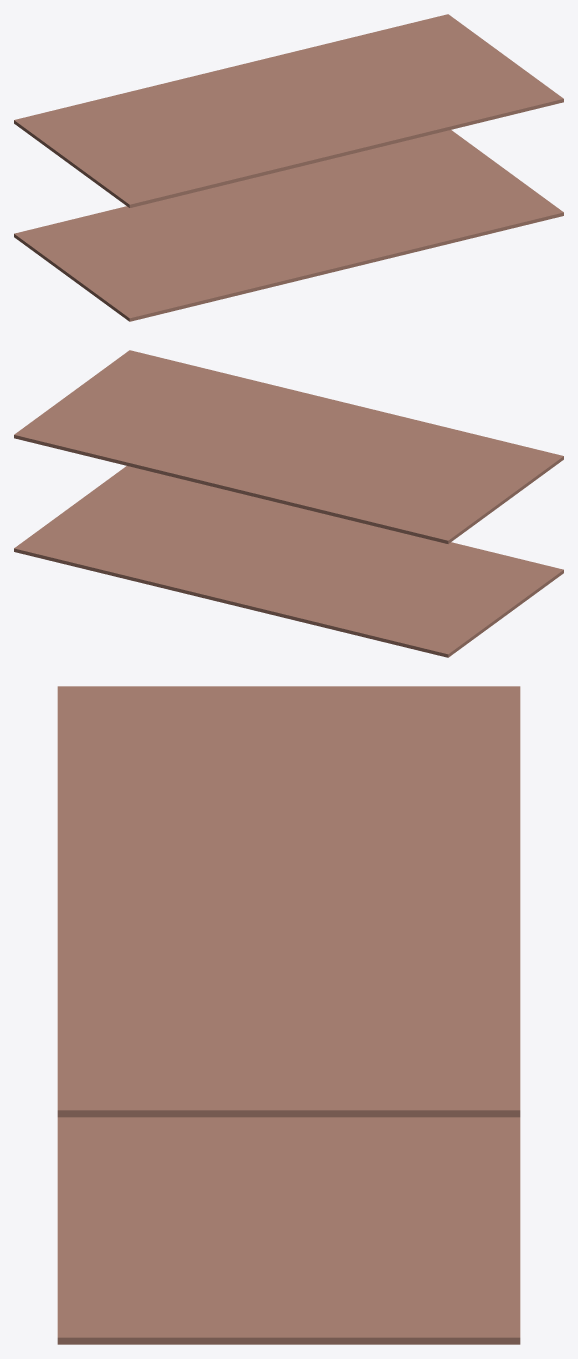
File: hall.fbx_Collection.fbx
The picture shows the model from 3 angles, top to bottom: view 1: azimuth 30°, elevation 25°; view 2: azimuth 150°, elevation 25°; view 3: azimuth 270°, elevation 25°; orthographic projection. The views are drawn at different scales.
Parts seen in each view (by area): view 1: Cube.001, Cube; view 2: Cube.001, Cube; view 3: Cube.001, Cube.
Boxes of the visible parts, x1,y1,x2,y2 form: Cube.001: (14, 14, 563, 207); Cube: (14, 130, 563, 321); Cube.001: (14, 350, 563, 543); Cube: (14, 466, 563, 657); Cube.001: (57, 686, 520, 1117); Cube: (57, 1117, 520, 1344).
Bounding box in the file's own units: 2600 × 670 × 1200.
